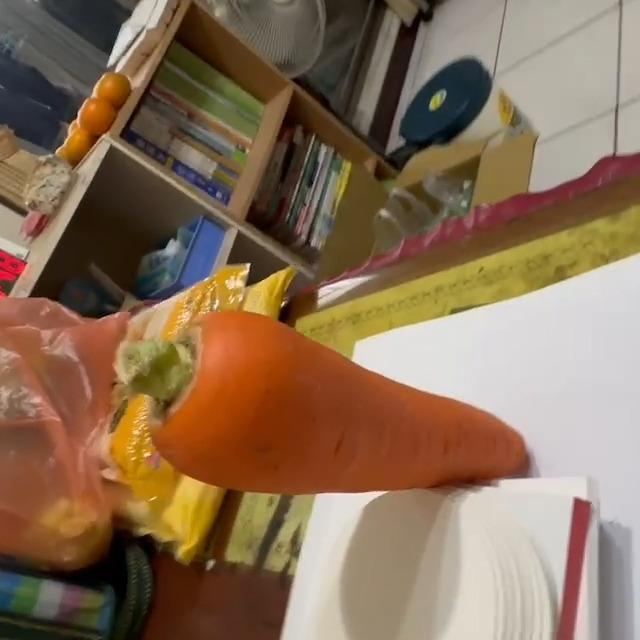carrot: (121, 308, 530, 497)
